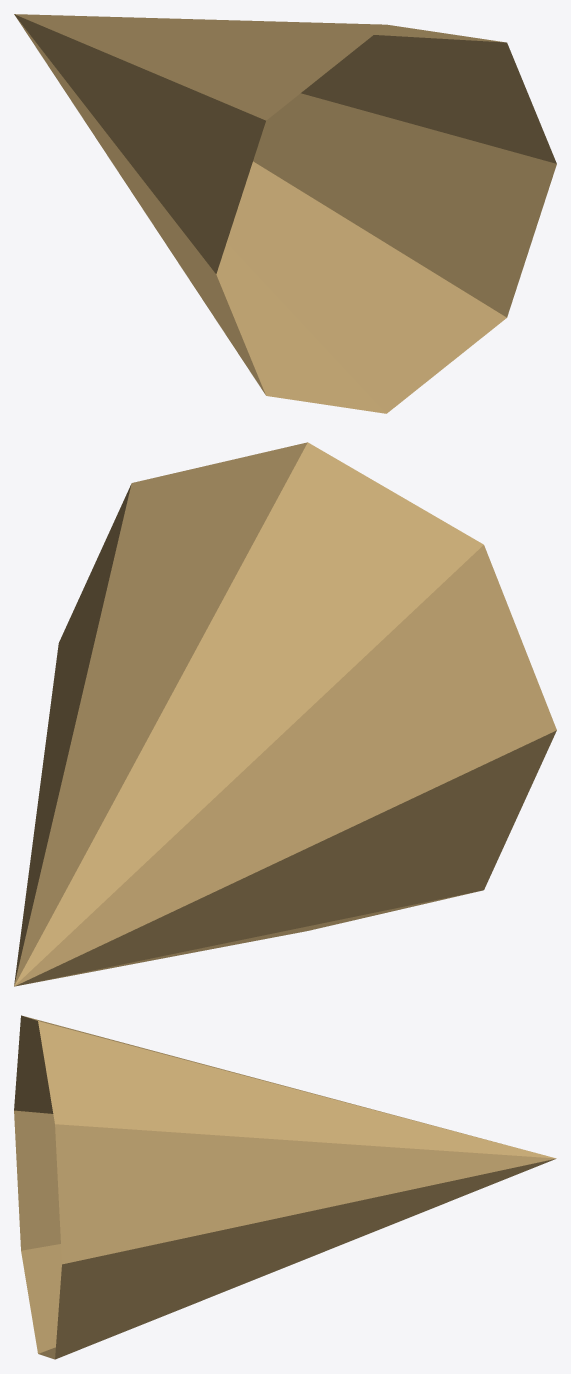
The model's file is cylinder.009_material.024_0_lev1.glb.
The picture shows the model from 3 angles, top to bottom: view 1: azimuth 30°, elevation 25°; view 2: azimuth 150°, elevation 25°; view 3: azimuth 270°, elevation 25°; orthographic projection. The views are drawn at different scales.
Visible parts, largest first — view 1: cylinder.009_material.024_0_lev1; view 2: cylinder.009_material.024_0_lev1; view 3: cylinder.009_material.024_0_lev1.
Part boxes in pixels (bbox=[...]): cylinder.009_material.024_0_lev1: bbox=[14, 14, 556, 413]; cylinder.009_material.024_0_lev1: bbox=[14, 442, 556, 986]; cylinder.009_material.024_0_lev1: bbox=[14, 1015, 556, 1359].
Size of the model in its own units: 0.5019 by 0.5063 by 0.7482.
